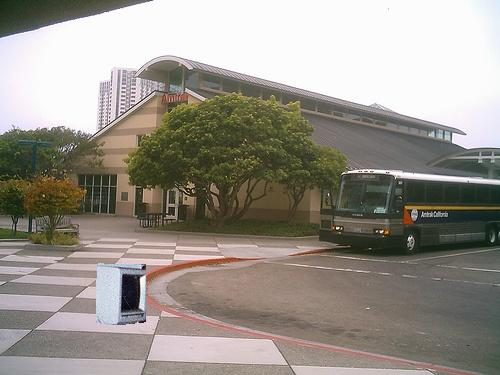tampered: (97, 264, 146, 325)
